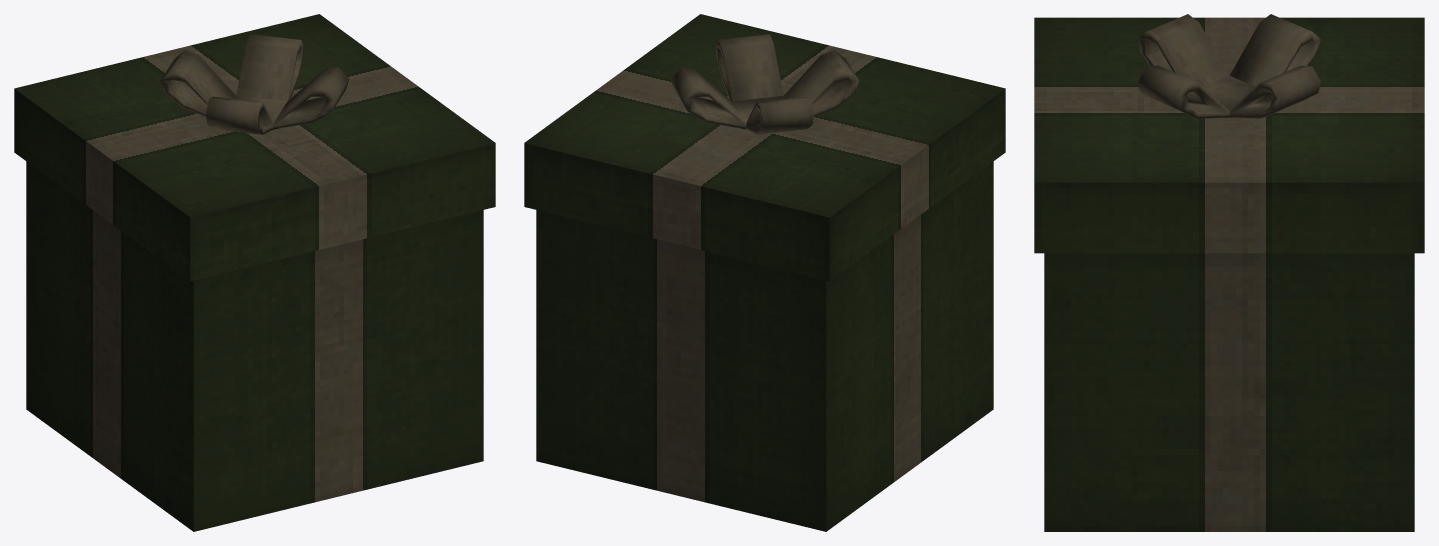
The model's file is gift_box_mx_1_1.glb.
3 renders of one model, left to right at view 1: azimuth 30°, elevation 25°; view 2: azimuth 150°, elevation 25°; view 3: azimuth 270°, elevation 25°, orthographic. The views are drawn at different scales.
Parts seen in each view (by area): view 1: gift_box_mx_1_1; view 2: gift_box_mx_1_1; view 3: gift_box_mx_1_1.
Boxes of the visible parts, x1,y1,x2,y2 form: gift_box_mx_1_1: (14,14,495,531); gift_box_mx_1_1: (524,14,1005,531); gift_box_mx_1_1: (1034,14,1424,531).
Bounding box in the file's own units: 0.2 × 0.229 × 0.2.
1 material, 1 textured.
